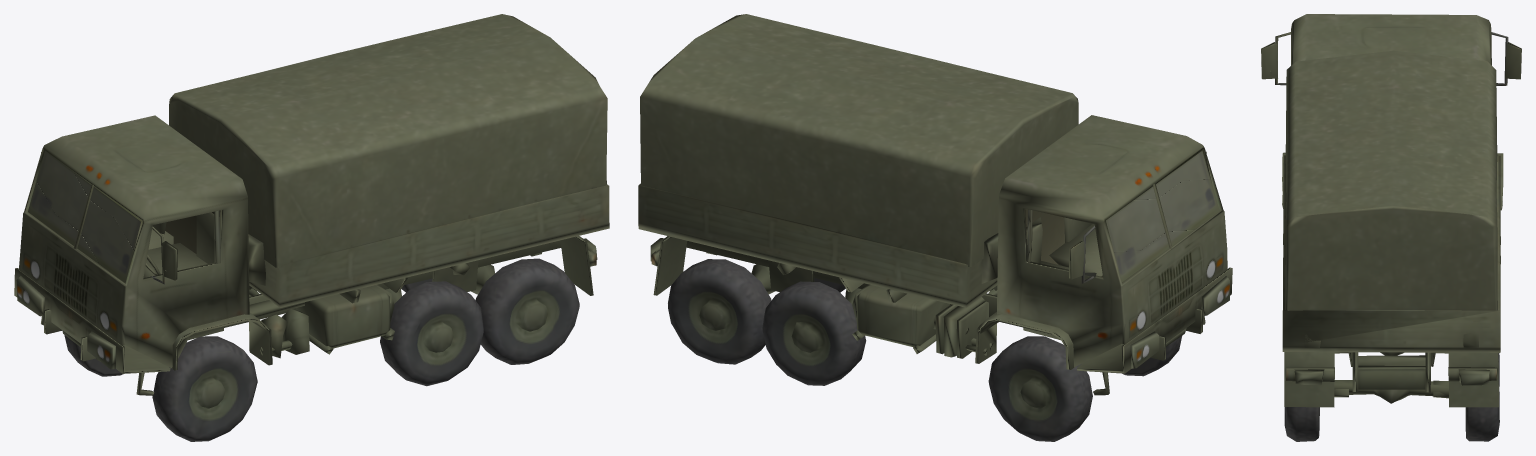
Rendered from us-supply-truck.glb.
3 renders of one model, left to right at view 1: azimuth 30°, elevation 25°; view 2: azimuth 150°, elevation 25°; view 3: azimuth 270°, elevation 25°, orthographic. The views are drawn at different scales.
Parts seen in each view (by area): view 1: geometry_0; view 2: geometry_0; view 3: geometry_0.
Part boxes in pixels (x1,y1,x2,y2): geometry_0: [14, 14, 609, 441]; geometry_0: [638, 14, 1232, 441]; geometry_0: [1261, 14, 1521, 441].
Size of the model in its own units: 1 by 0.5314 by 0.4749.
1 material, 1 textured.
